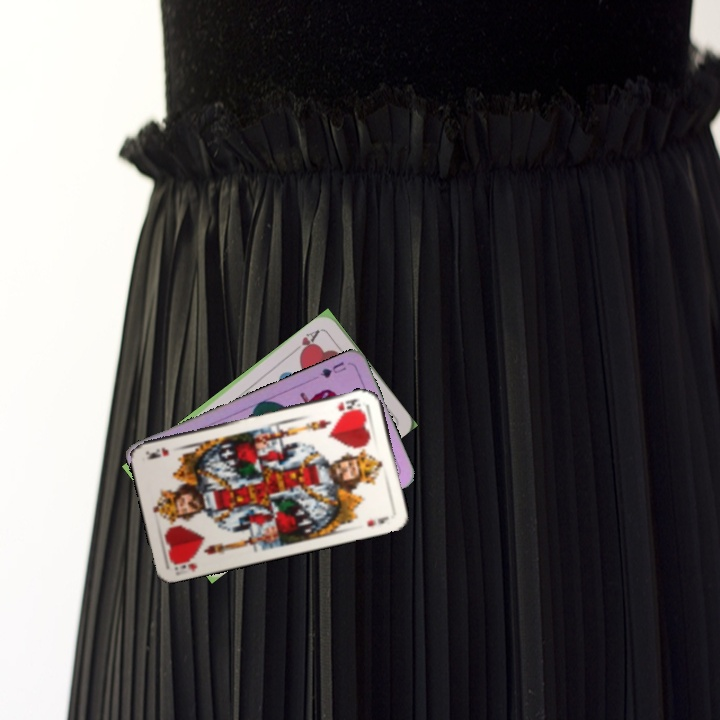GU: (316, 357, 348, 381)
HA: (295, 325, 325, 358)
HK: (334, 395, 364, 415), (170, 559, 199, 573)
